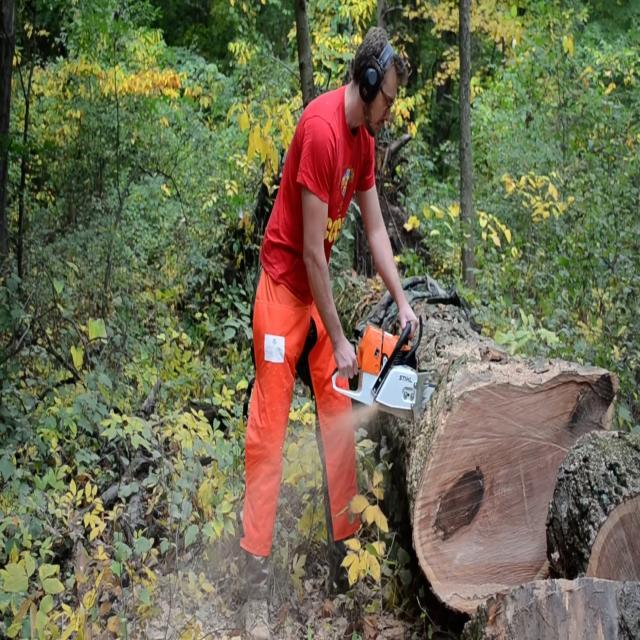Chainsaw: (316, 308, 466, 451)
